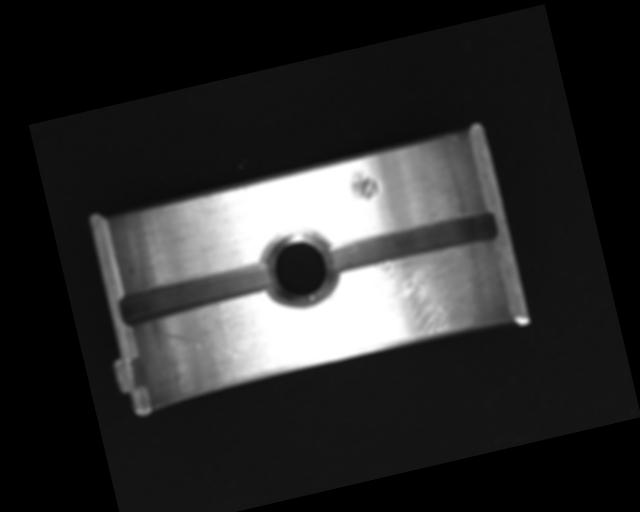bruise: (347, 164, 381, 204)
gap: (321, 207, 499, 279), (116, 260, 272, 326)
hole: (257, 224, 342, 316)
nick: (158, 314, 243, 375)
scratch: (337, 238, 504, 359)
